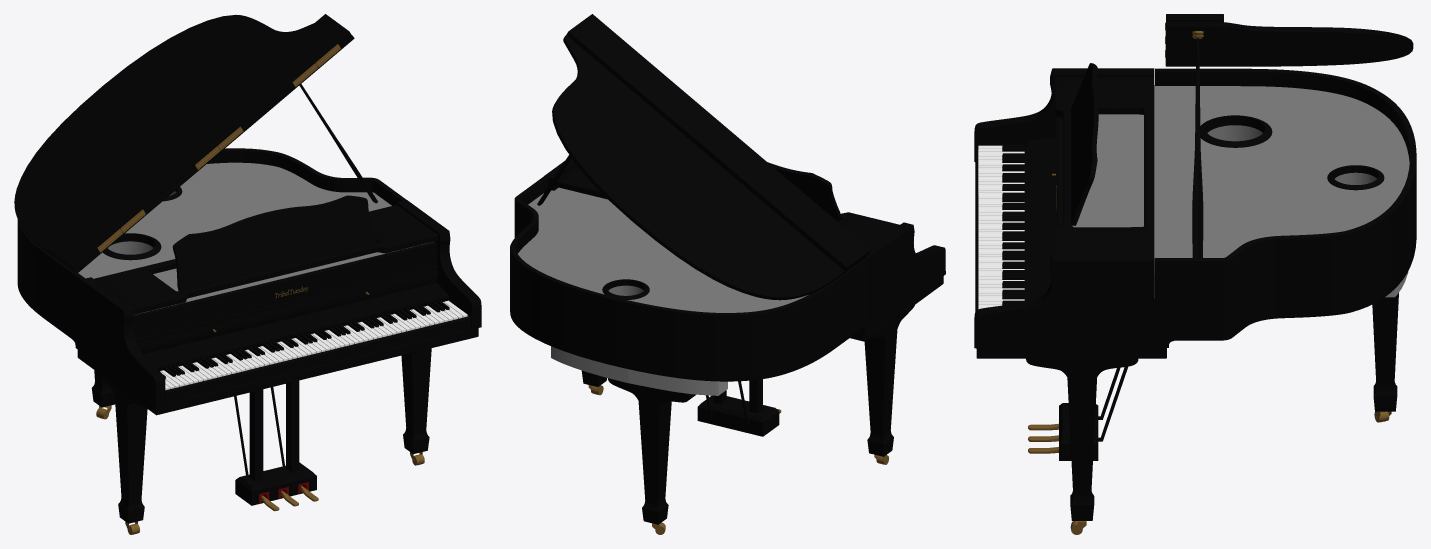
3 views of the same model, side by side, from view 1: azimuth 30°, elevation 25°; view 2: azimuth 150°, elevation 25°; view 3: azimuth 270°, elevation 25° (orthographic). The views are drawn at different scales.
Parts seen in each view (by area): view 1: Line10, Line07, Rectangle01, Box02, Box05, Line06, Plane01, Box08, Box04, Box06, keys, Box07 (+10 smaller); view 2: Line10, Line06, Line07, Rectangle01, Box04, Box11, Box09, Line02, Box61, Plane01, Box02, Line09 (+2 smaller); view 3: Line07, Line06, Box03, Line10, Plane01, keys, Box08, Box10, Box04, Box02, Box11, Box01 (+8 smaller).
Boxes of the visible parts, x1,y1,x2,y2 form: Line10: (14,14,354,273); Line07: (78,162,433,314); Rectangle01: (48,14,351,269); Box02: (172,195,376,290); Box05: (133,241,437,339); Line06: (17,148,406,351); Plane01: (94,205,437,314); Box08: (144,283,449,370); Box04: (81,277,165,406); Box06: (135,266,437,354); keys: (160,300,467,390); Box07: (159,300,471,402); Line10: (552,35,867,300); Line06: (510,176,870,381); Line07: (518,187,807,312); Rectangle01: (566,14,870,270); Box04: (868,222,945,328); Box11: (638,401,671,524); Box09: (864,329,897,456); Line02: (551,346,727,395); Box61: (697,395,779,436); Plane01: (554,165,899,247); Box02: (767,162,840,218); Line09: (607,378,695,405); Line07: (1072,85,1409,298); Line06: (1154,68,1416,348); Box03: (974,254,1154,348); Line10: (1165,22,1413,66); Plane01: (1055,77,1154,254); keys: (978,145,1024,309); Box08: (1028,136,1055,301); Box10: (1067,377,1096,520); Box04: (974,68,1154,161); Box02: (1071,63,1098,225); Box11: (1372,293,1398,411); Box01: (976,299,1166,358).
Bounding box in the file's own units: 1443 × 1726 × 1384.
